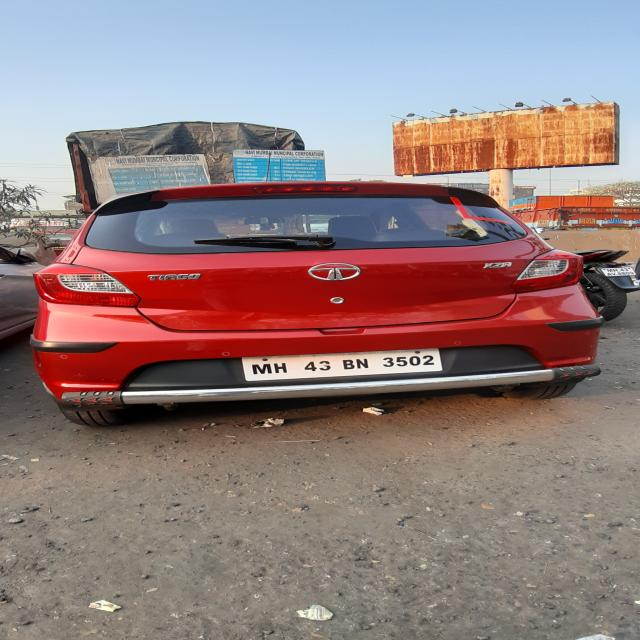Number-Plate: (242, 352, 440, 382)
